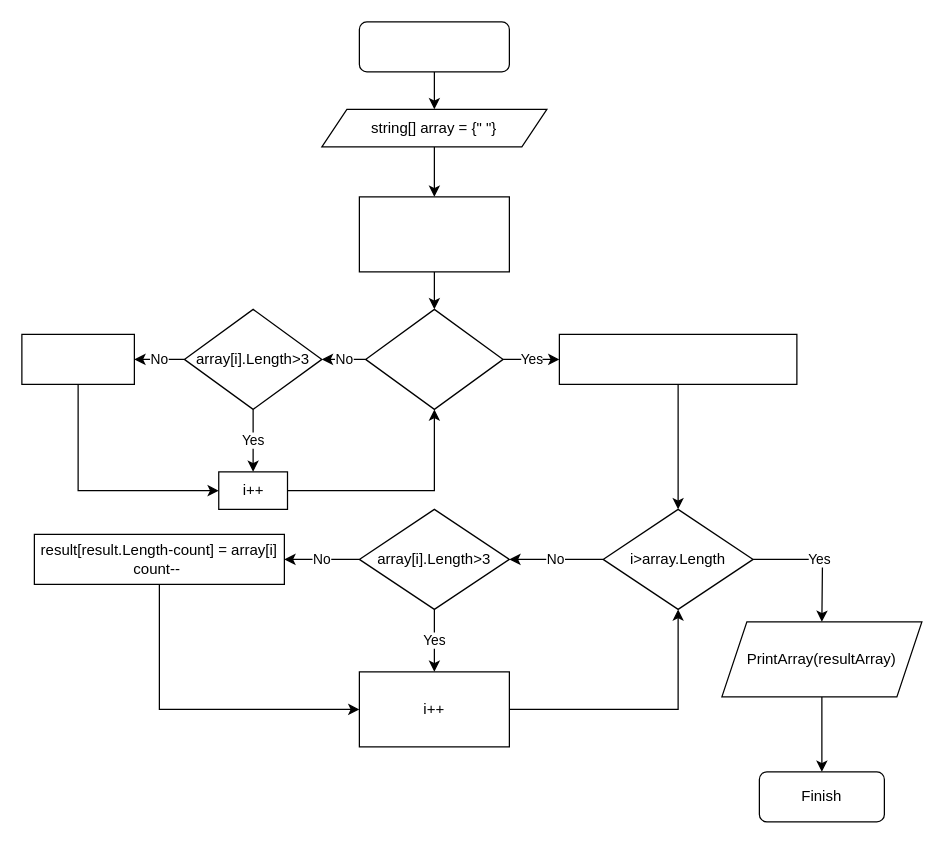
This 944x844 diagram has some shape labels left out. The centre of each missing label's shape, as x and y in pixels:
count = 0 i = 0: the point at 433,234
count++: the point at 77,358
i<array.Length: the point at 433,358
Start: the point at 433,46
string[] result = new string[count] i = 0: the point at 677,358
